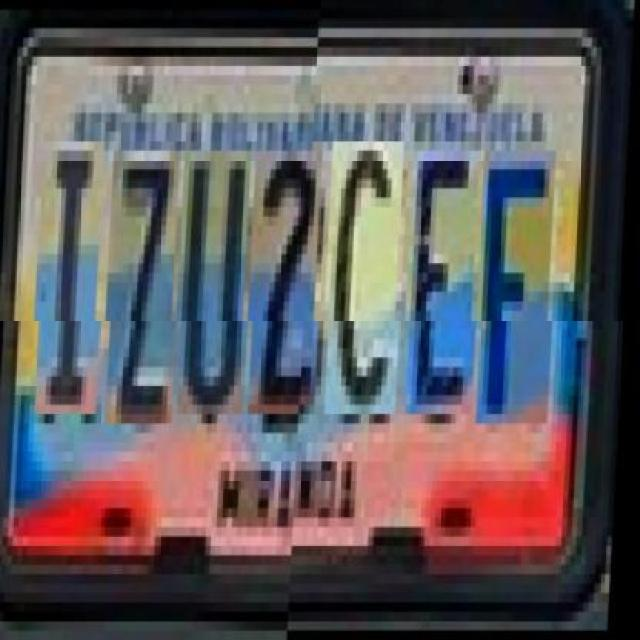2: (252, 150, 330, 415)
c: (328, 150, 410, 424)
e: (409, 160, 486, 425)
f: (480, 159, 563, 433)
i: (39, 140, 112, 414)
u: (180, 150, 258, 415)
z: (110, 150, 187, 424)
